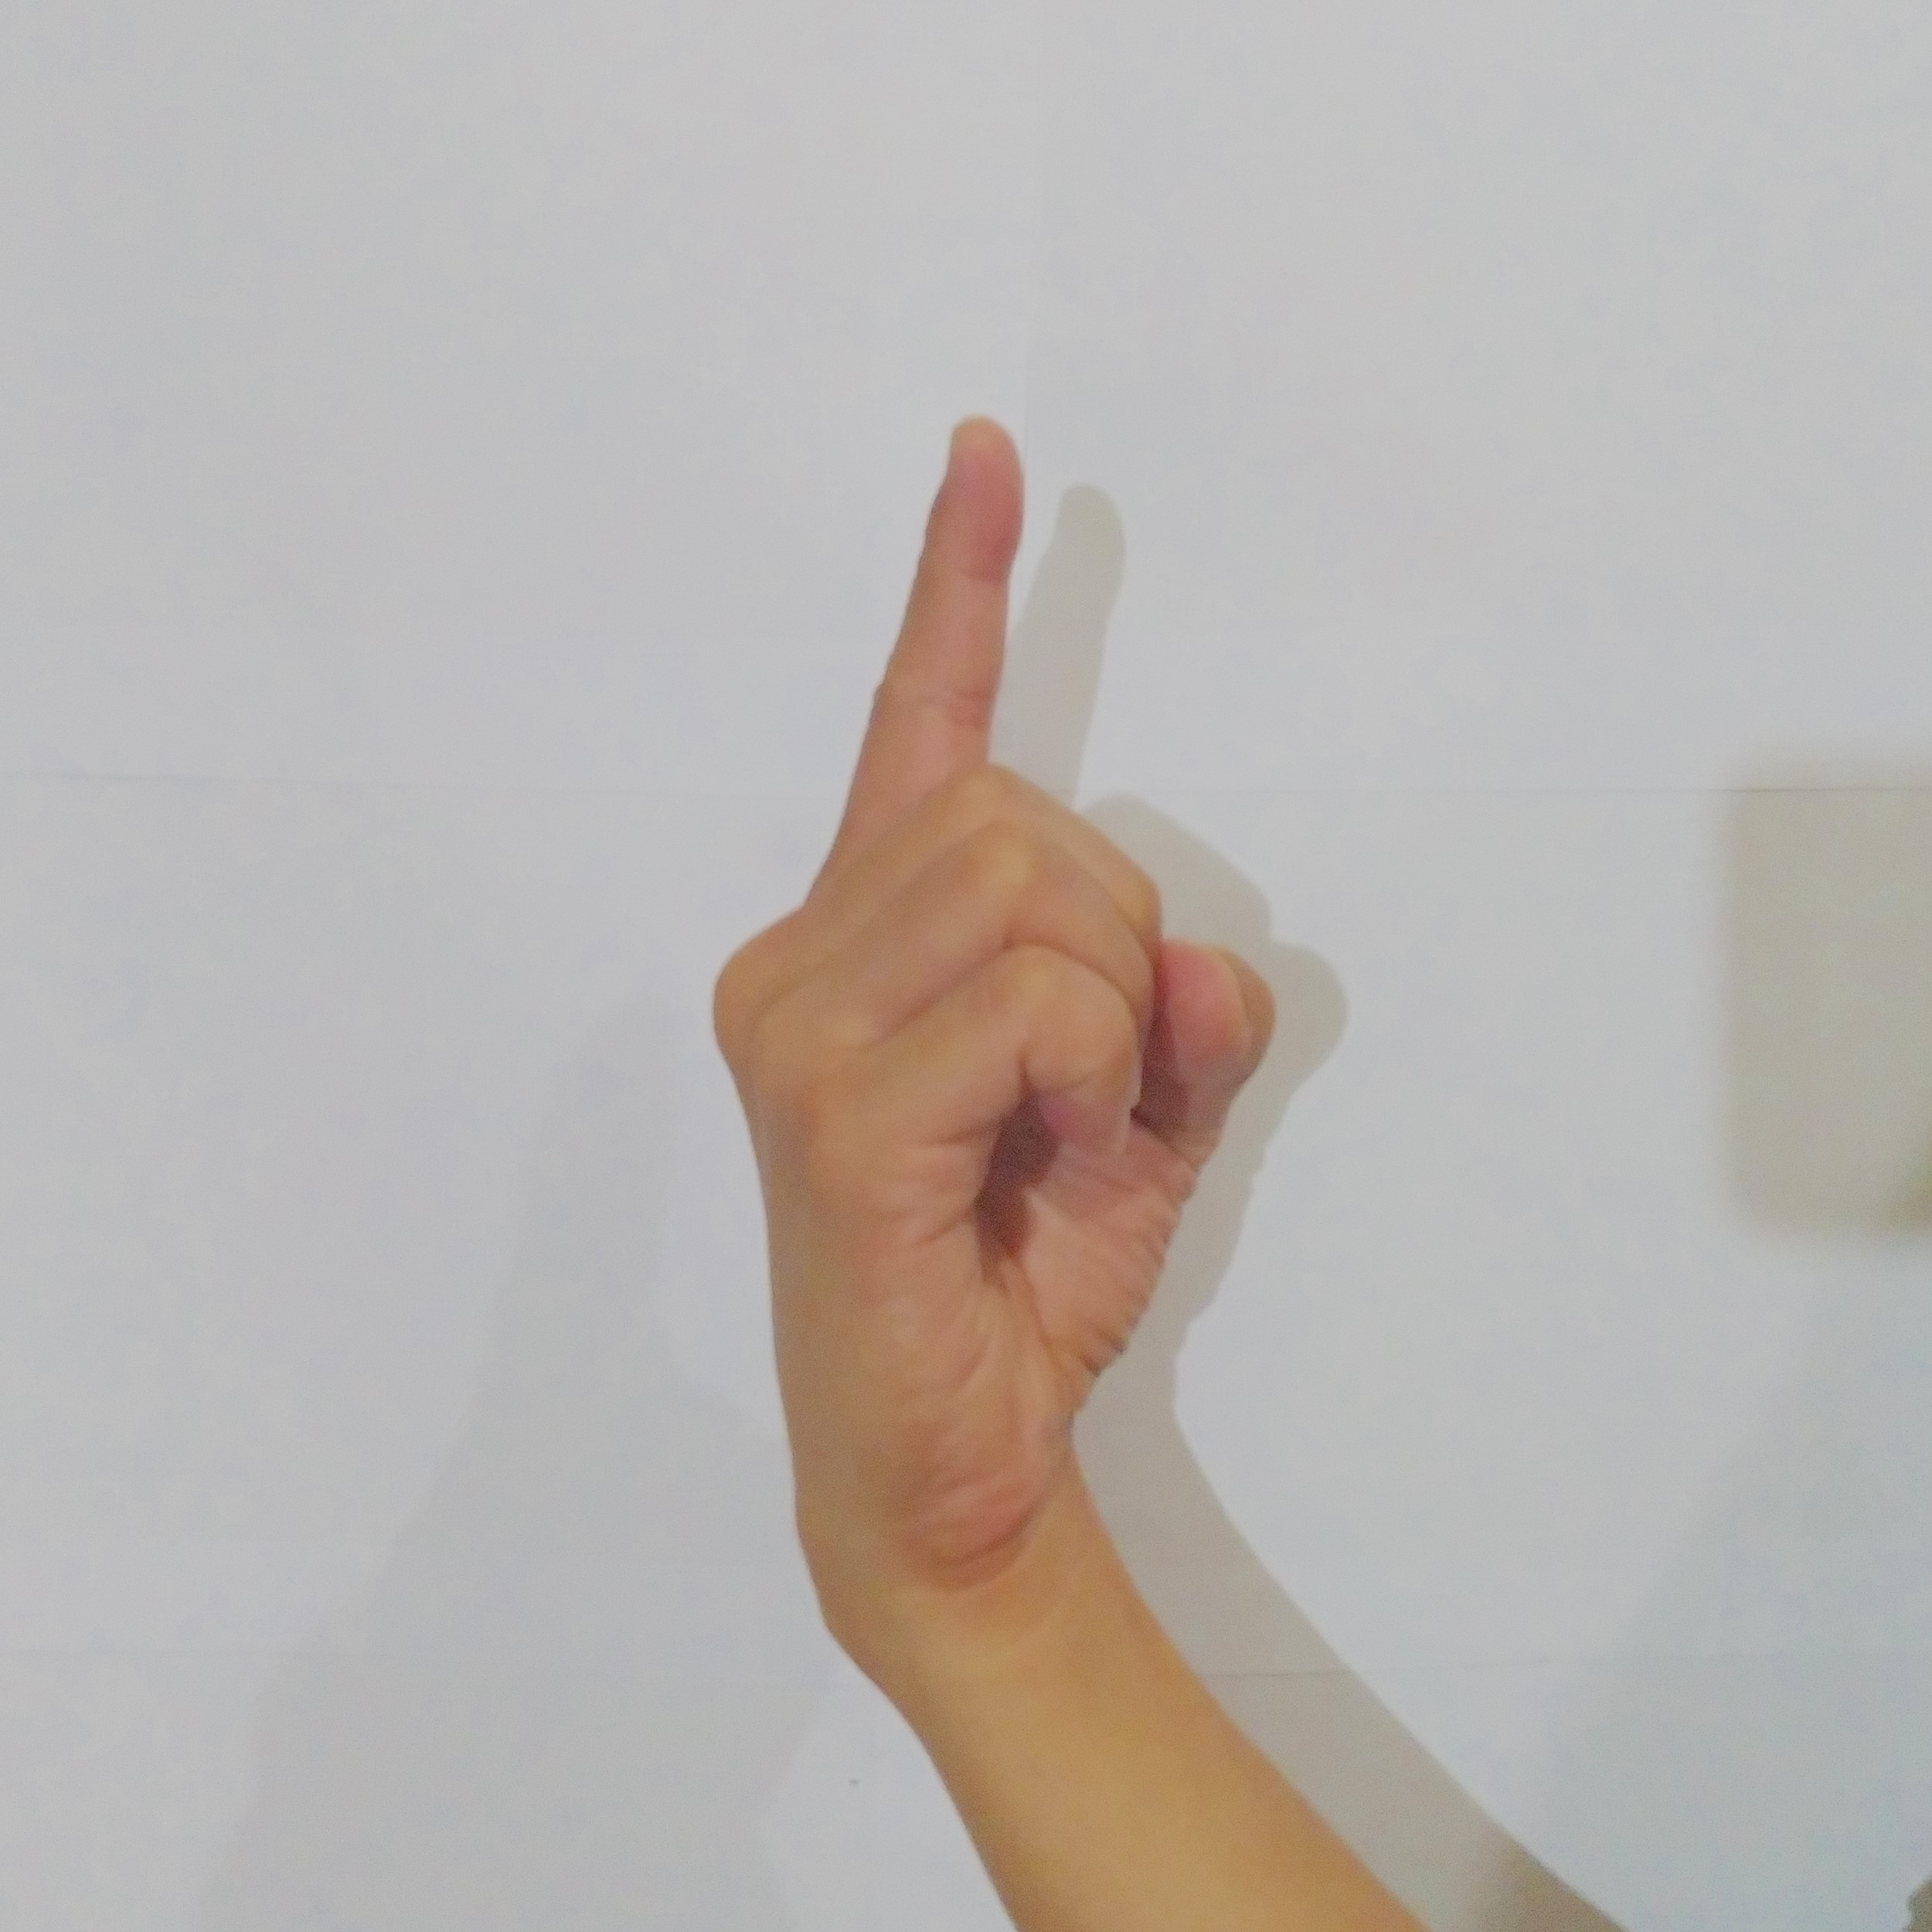D: (694, 398, 1297, 1463)
